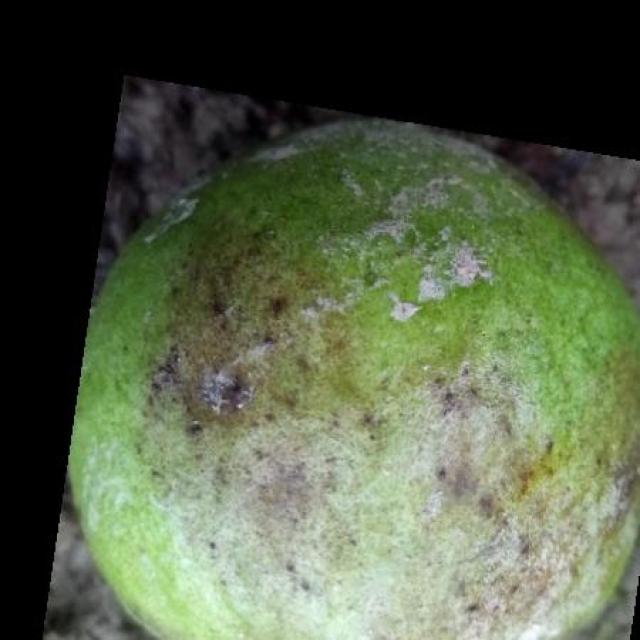Phytopthora: (70, 121, 640, 640)
